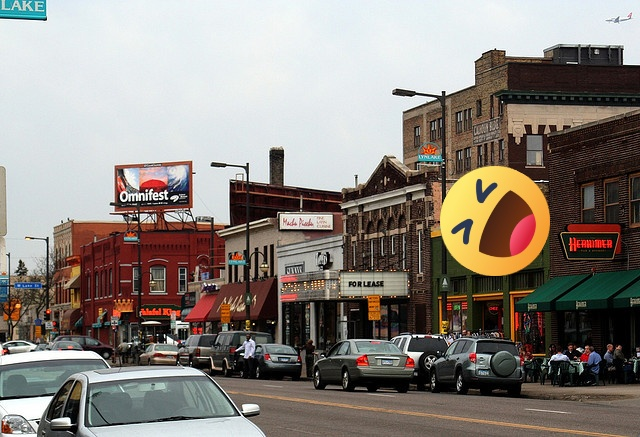haha: (440, 166, 550, 276)
